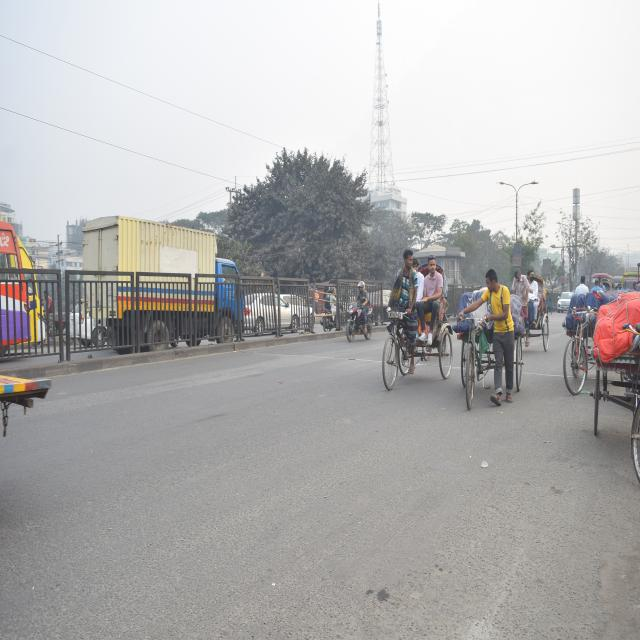car: (242, 287, 302, 336), (555, 292, 573, 310)
motorbike: (342, 282, 380, 348)
pickup-van: (80, 222, 248, 351)
truck: (82, 223, 246, 353)
